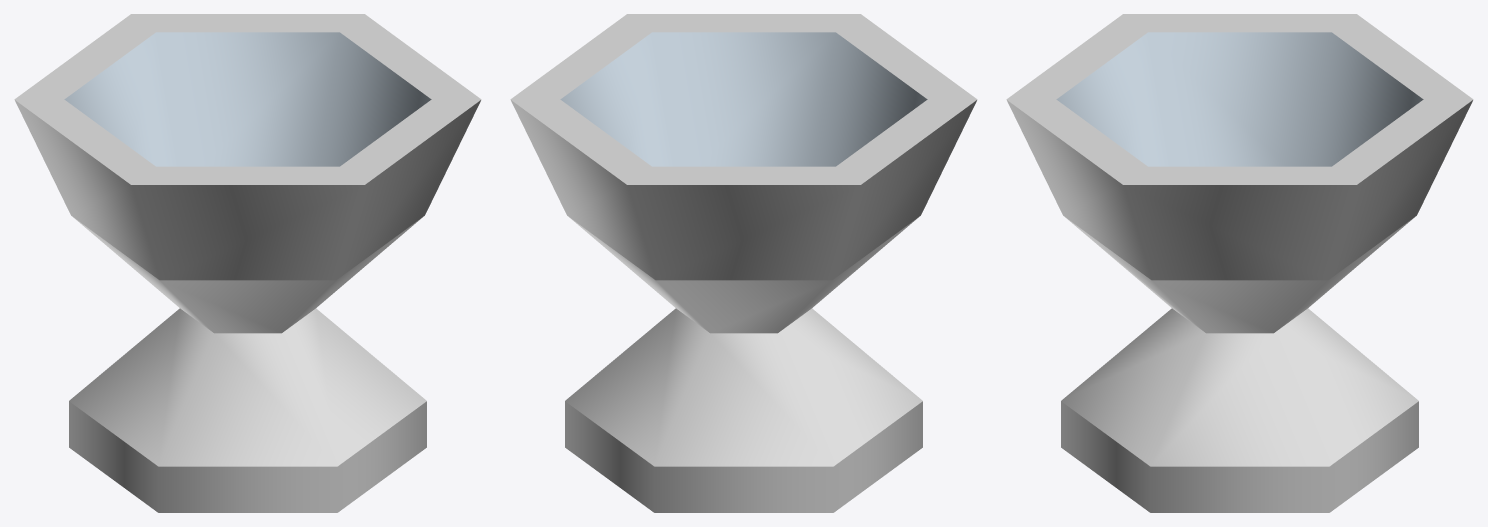
Rendered from Egg Cup.glb.
3 views of the same model, side by side, from view 1: azimuth 30°, elevation 25°; view 2: azimuth 150°, elevation 25°; view 3: azimuth 270°, elevation 25° (orthographic).
Visible parts, largest first — view 1: eggCup; view 2: eggCup; view 3: eggCup.
Part boxes in pixels (x1=…): eggCup: x1=14, y1=14, x2=481, y2=512; eggCup: x1=510, y1=14, x2=977, y2=512; eggCup: x1=1006, y1=14, x2=1473, y2=512.
Bounding box in the file's own units: 0.1581 × 0.15 × 0.1826.
